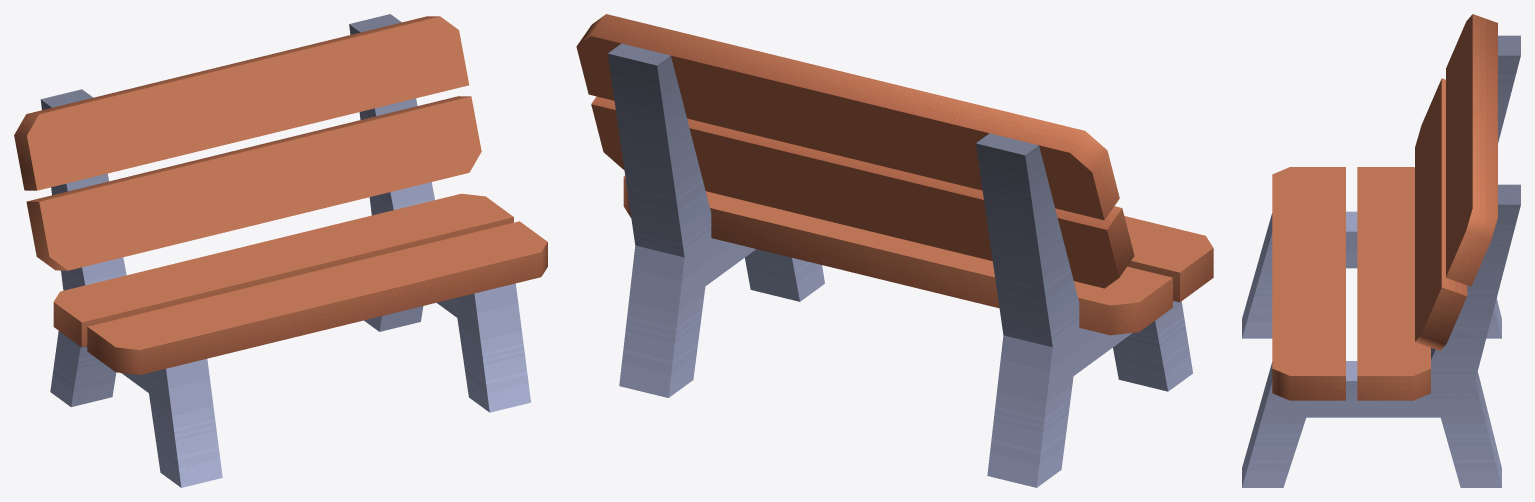
The model's file is bench.glb.
3 views of the same model, side by side, from view 1: azimuth 30°, elevation 25°; view 2: azimuth 150°, elevation 25°; view 3: azimuth 270°, elevation 25° (orthographic). The views are drawn at different scales.
Parts seen in each view (by area): view 1: bench; view 2: bench; view 3: bench.
Part boxes in pixels (x1,y1,x2,y2): bench: (14, 14, 547, 487); bench: (576, 14, 1213, 487); bench: (1242, 14, 1520, 487).
Size of the model in its own units: 3.36 by 2.19 by 1.9.
1 material, 1 textured.
